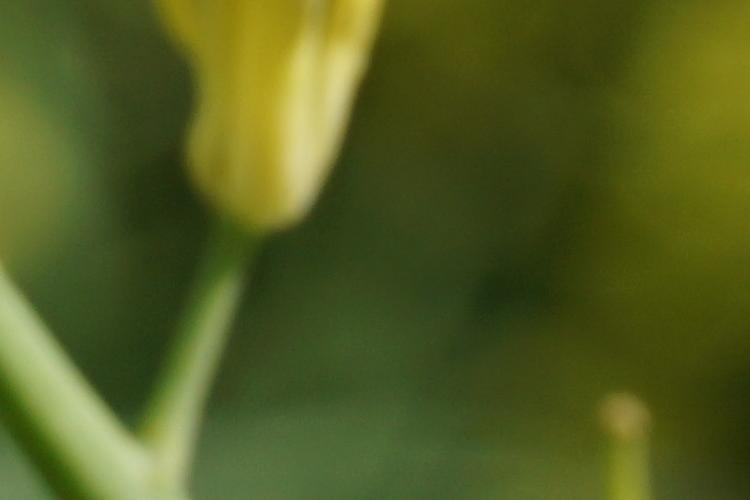yellow: (175, 3, 393, 238)
